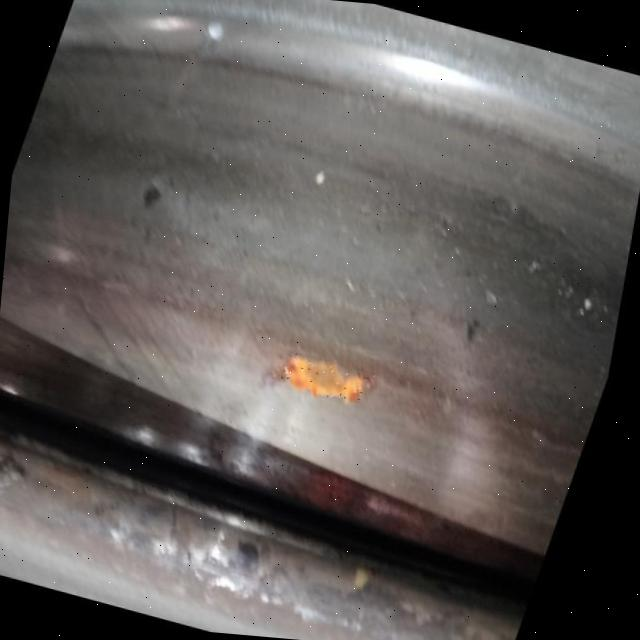Peeling: (270, 338, 404, 427)
